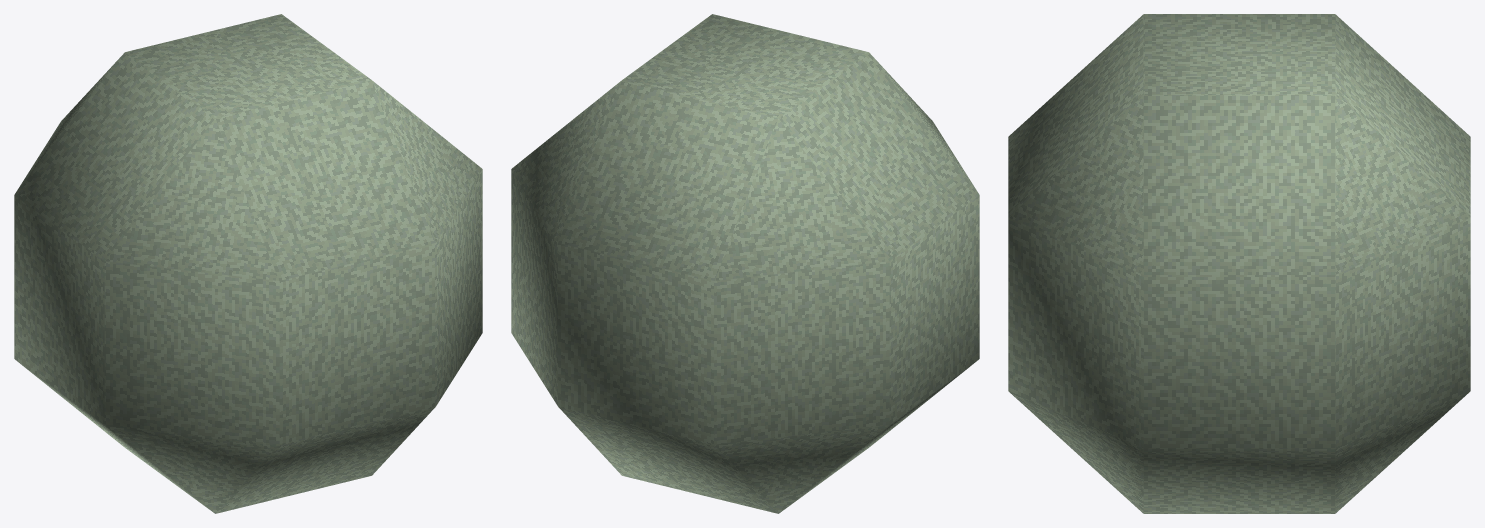
File: 0496_Algae_Ball.glb
The picture shows the model from 3 angles, left to right: view 1: azimuth 30°, elevation 25°; view 2: azimuth 150°, elevation 25°; view 3: azimuth 270°, elevation 25°; orthographic projection. The views are drawn at different scales.
Parts seen in each view (by area): view 1: part_0; view 2: part_0; view 3: part_0.
Boxes of the visible parts, box(x1,y1,x2,y2) form: part_0: box(14, 14, 482, 513); part_0: box(511, 14, 979, 513); part_0: box(1008, 14, 1470, 513).
Bounding box in the file's own units: 0.4592 × 0.4592 × 0.4592.
Materials: 1 (1 with a texture image).
